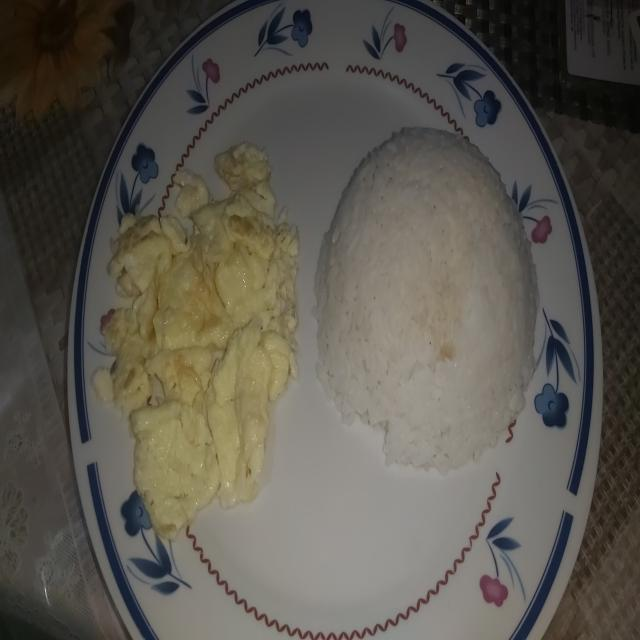Chicken -Chicken Inasal-: (315, 123, 540, 450)
